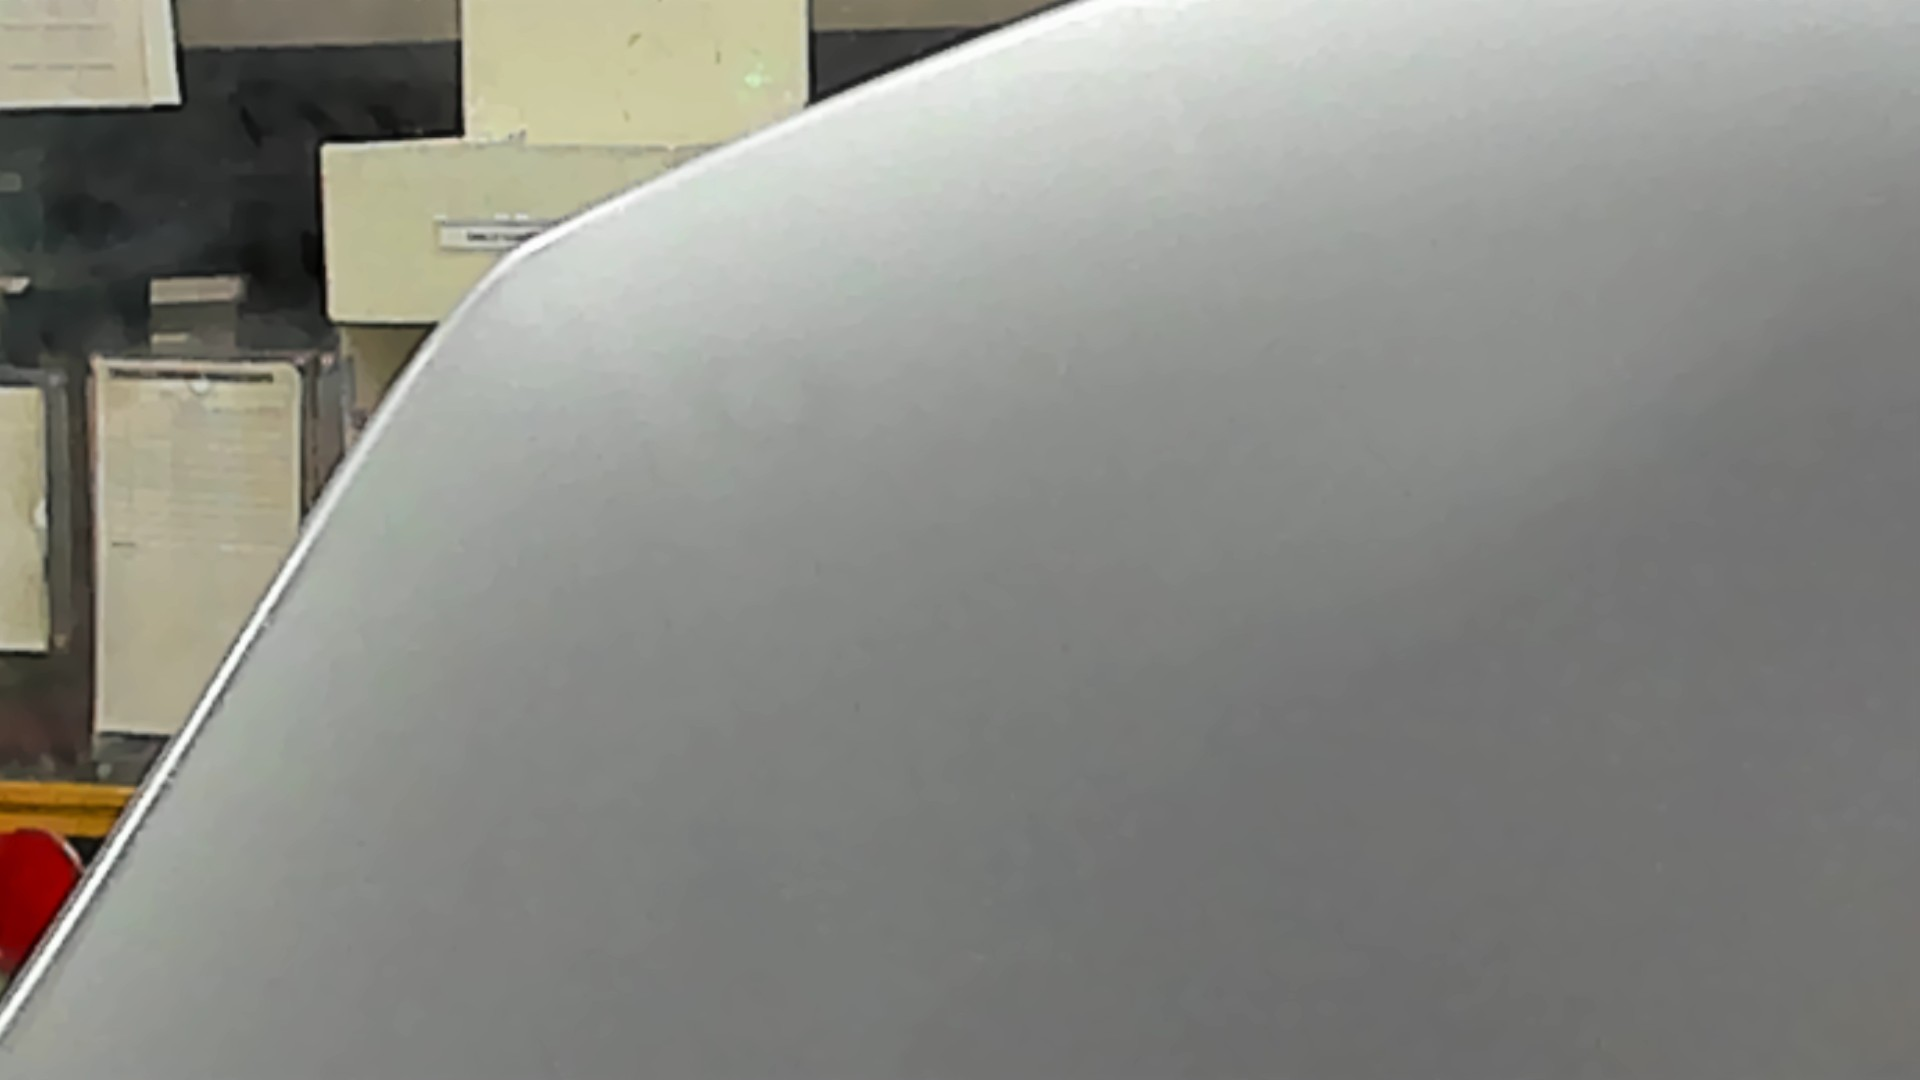capo: (737, 166, 1920, 1080)
